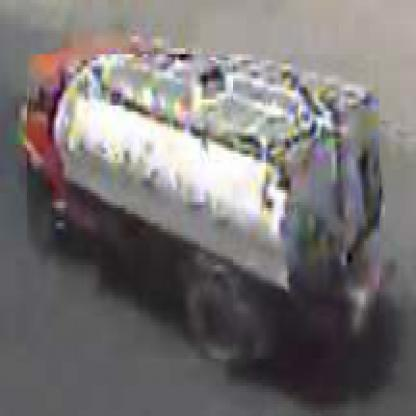truck: (28, 55, 382, 363)
